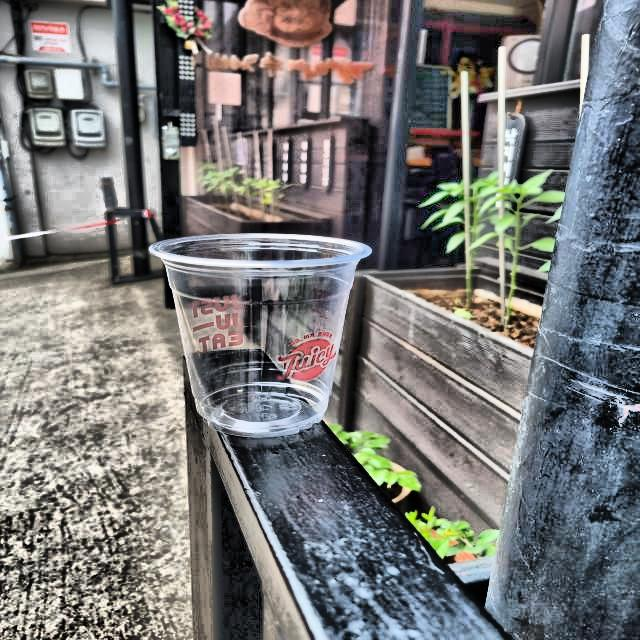plastic cup: (133, 226, 379, 444)
